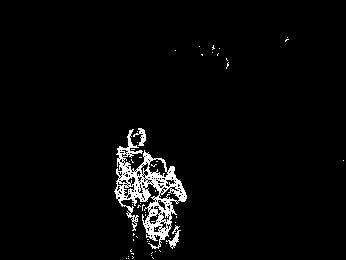person: (113, 128, 151, 260), (142, 159, 184, 251)
